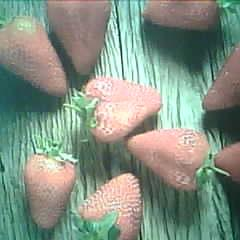straw-ripe: (0, 19, 66, 97), (83, 77, 162, 142), (127, 129, 207, 189), (81, 173, 142, 240), (26, 155, 77, 230)
